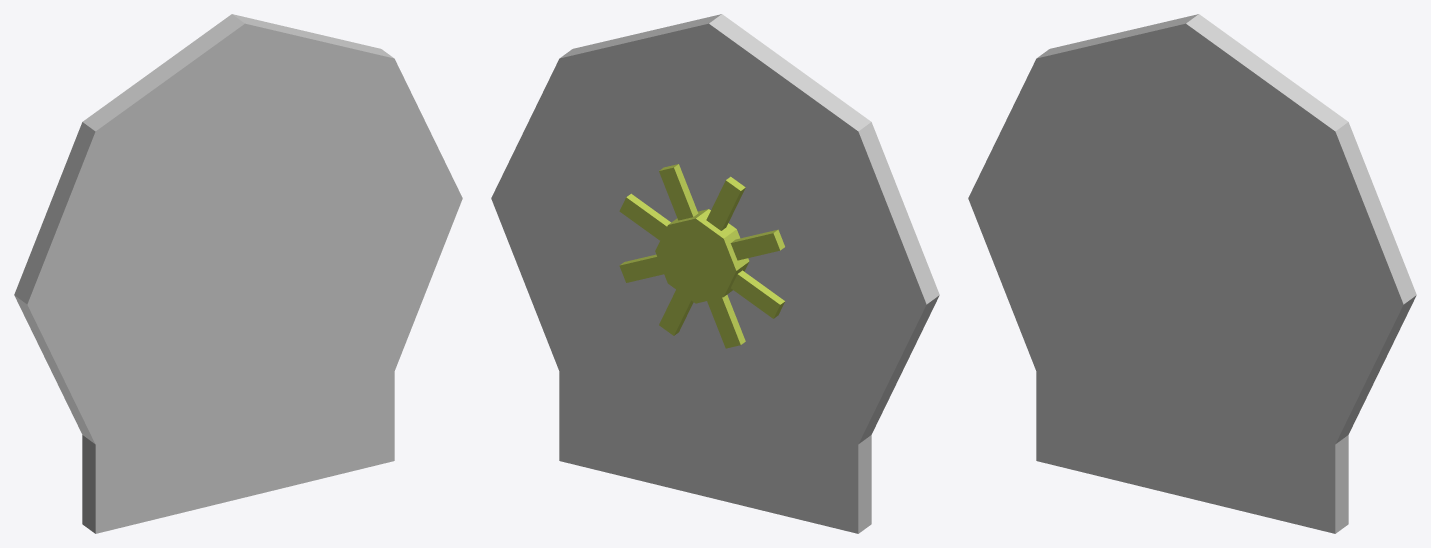
The model's file is PuertaAcorazada.fbx.
The picture shows the model from 3 angles, left to right: view 1: azimuth 30°, elevation 25°; view 2: azimuth 150°, elevation 25°; view 3: azimuth 330°, elevation 25°; orthographic projection.
Parts seen in each view (by area): view 1: Puerta Habitacion Acorazada; view 2: Puerta Habitacion Acorazada; view 3: Puerta Habitacion Acorazada.
Boxes of the visible parts, box(x1,y1,x2,y2) form: Puerta Habitacion Acorazada: box(14, 14, 462, 533); Puerta Habitacion Acorazada: box(491, 14, 939, 533); Puerta Habitacion Acorazada: box(968, 14, 1416, 533).
Size of the model in its own units: 371 by 385 by 38.76.
